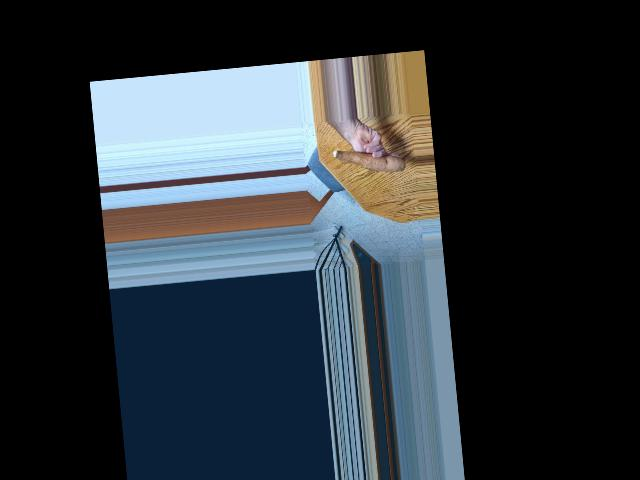sweet_potato: (330, 143, 404, 182)
